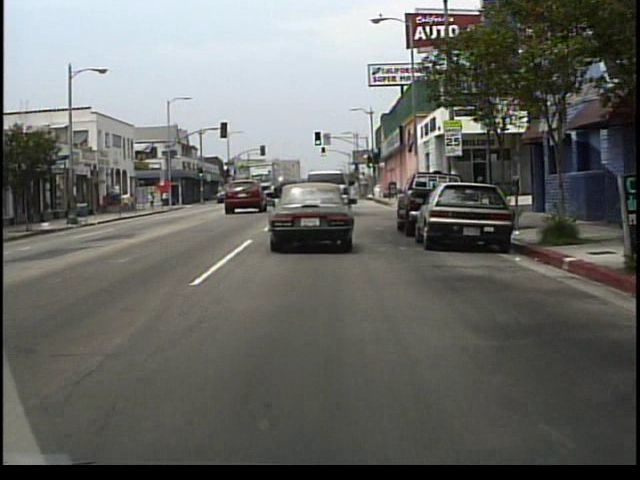person: (128, 192, 137, 215), (149, 190, 157, 210), (136, 193, 142, 214)
